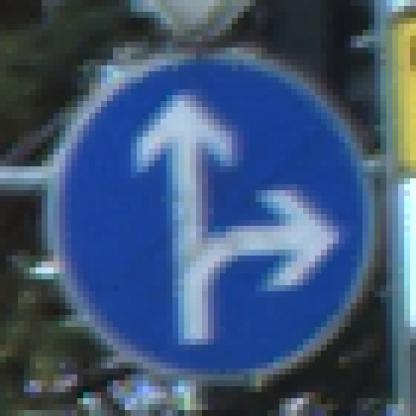Straight or Right: (43, 43, 381, 381)
